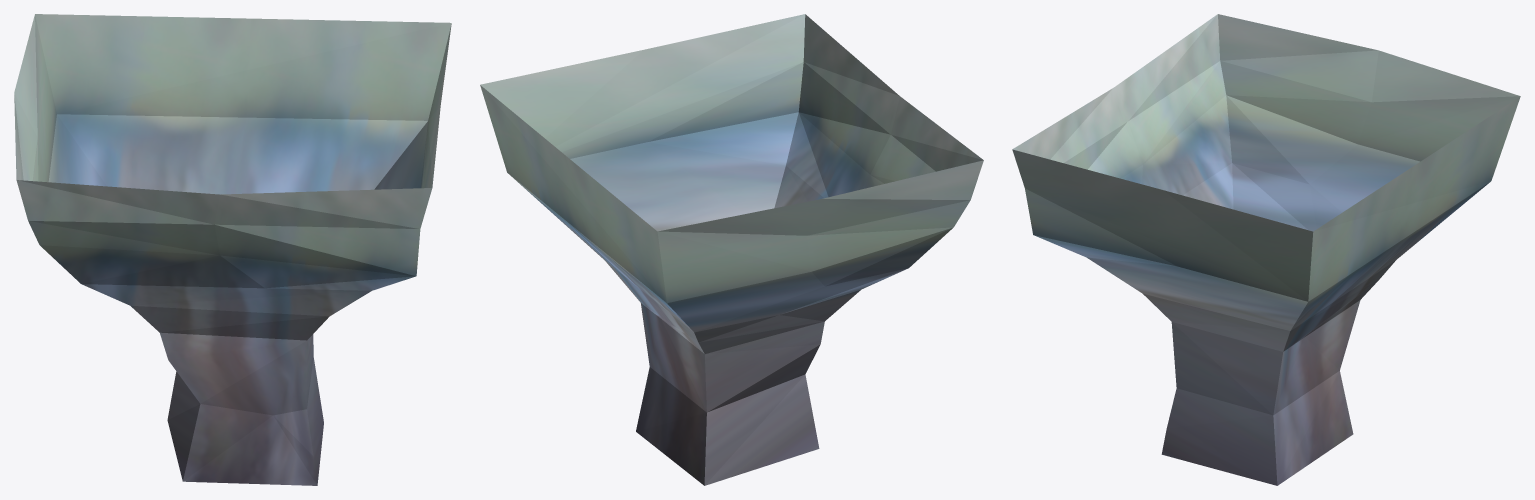
Rendered from Icicle_Lat.gltf.
3 renders of one model, left to right at view 1: azimuth 30°, elevation 25°; view 2: azimuth 150°, elevation 25°; view 3: azimuth 270°, elevation 25°, orthographic. The views are drawn at different scales.
Parts seen in each view (by area): view 1: Icicle_Lat; view 2: Icicle_Lat; view 3: Icicle_Lat.
Part boxes in pixels (bbox=[...]): Icicle_Lat: bbox=[14, 14, 451, 485]; Icicle_Lat: bbox=[480, 14, 983, 485]; Icicle_Lat: bbox=[1012, 14, 1520, 485].
Size of the model in its own units: 30.31 by 20.91 by 29.93.
Materials: 1 (1 with a texture image).
